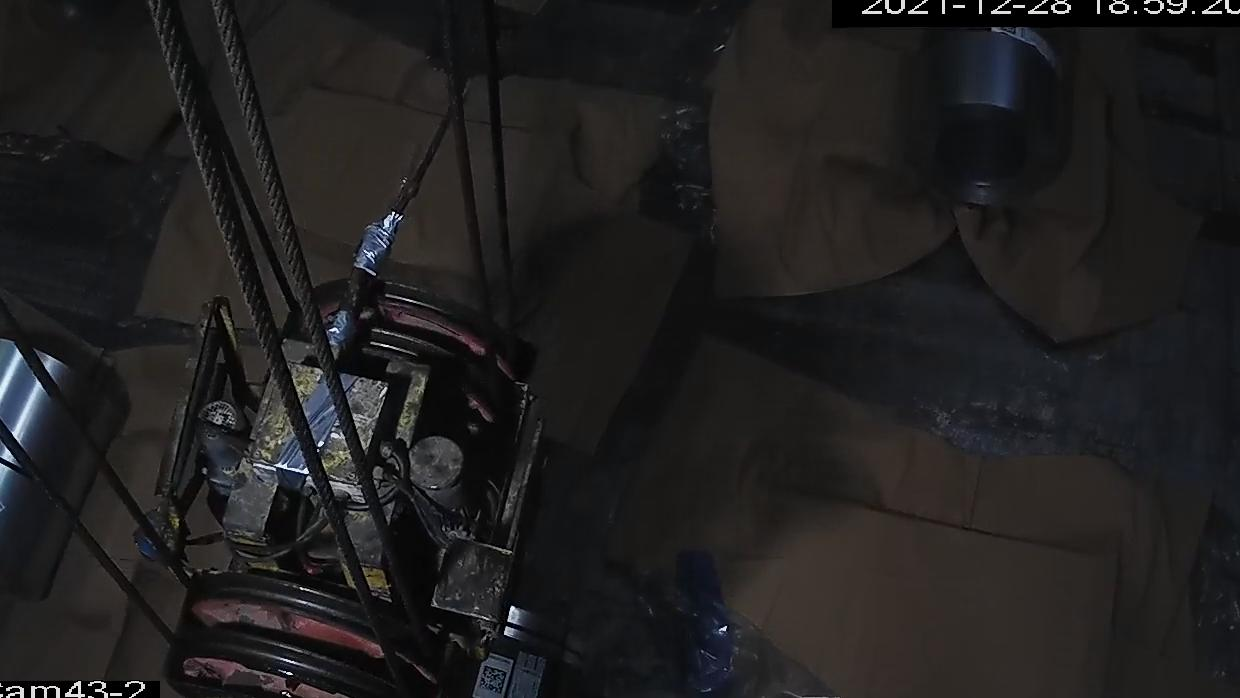data matrix: (477, 664, 510, 696)
